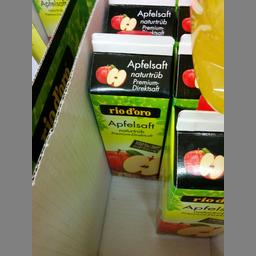juice: (86, 28, 172, 182), (150, 106, 222, 240)
